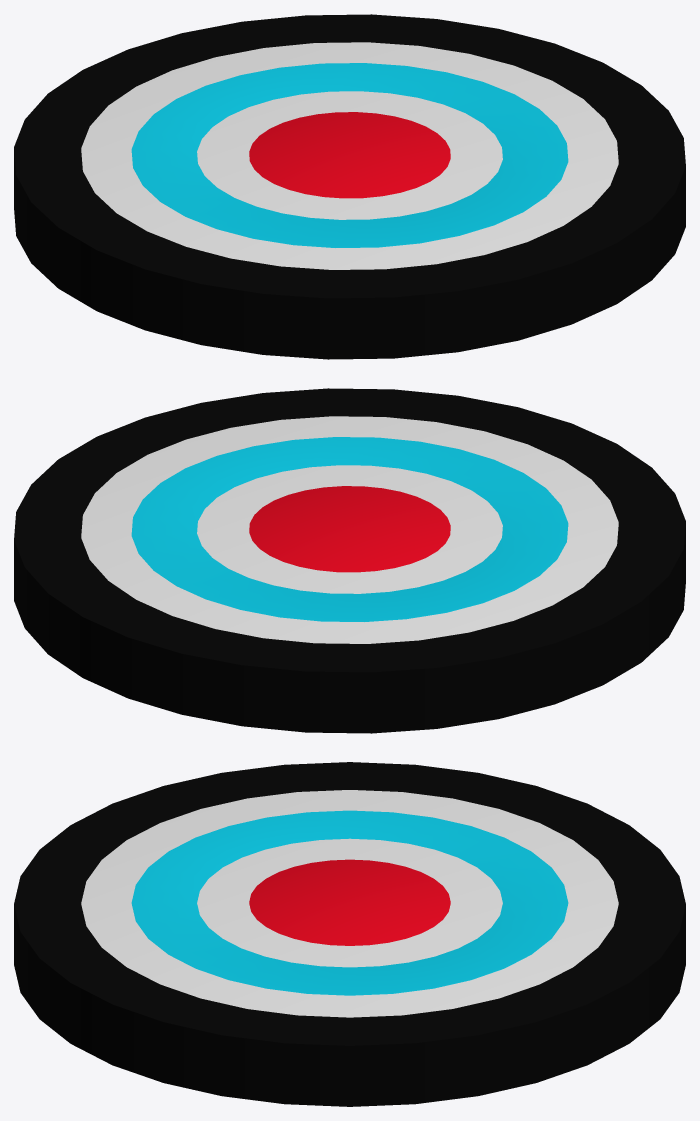
The model's file is target.fbx.
The picture shows the model from 3 angles, top to bottom: view 1: azimuth 30°, elevation 25°; view 2: azimuth 150°, elevation 25°; view 3: azimuth 270°, elevation 25°; orthographic projection.
Visible parts, largest first — view 1: Cylinder, Cylinder.001, Cylinder.002, Cylinder.003; view 2: Cylinder, Cylinder.001, Cylinder.002, Cylinder.003; view 3: Cylinder, Cylinder.001, Cylinder.002, Cylinder.003.
Boxes of the visible parts, box(x1,y1,x2,y2) form: Cylinder: box(14, 14, 685, 359); Cylinder.001: box(81, 42, 618, 269); Cylinder.002: box(131, 63, 568, 247); Cylinder.003: box(249, 112, 450, 198); Cylinder: box(14, 388, 685, 733); Cylinder.001: box(81, 416, 618, 643); Cylinder.002: box(131, 437, 568, 621); Cylinder.003: box(249, 486, 450, 572); Cylinder: box(14, 762, 685, 1106); Cylinder.001: box(81, 790, 618, 1017); Cylinder.002: box(131, 810, 568, 995); Cylinder.003: box(249, 859, 450, 945).
Size of the model in its own units: 200 by 21.2 by 200.
